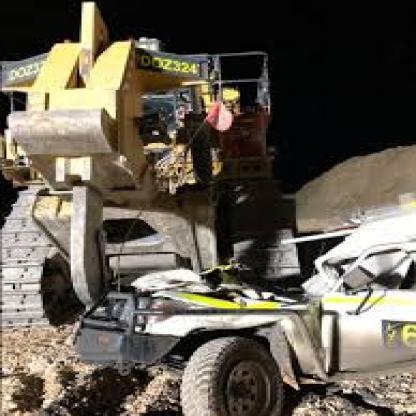bull_dozer/loader/grader: (6, 5, 332, 347)
